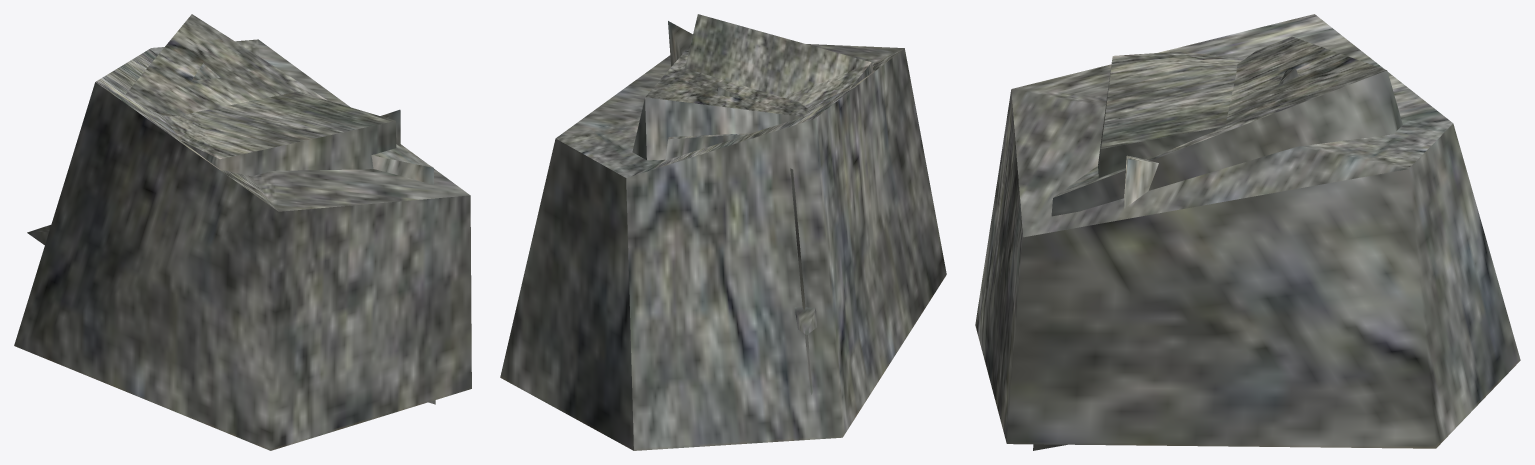
3 views of the same model, side by side, from view 1: azimuth 30°, elevation 25°; view 2: azimuth 150°, elevation 25°; view 3: azimuth 270°, elevation 25° (orthographic). The views are drawn at different scales.
Visible parts, largest first — view 1: 4, 2, 0, 7; view 2: 4, 2, 0, 7, 8; view 3: 4, 0, 2, 7.
Part boxes in pixels (x1,y1,x2,y2): 4: (14, 39, 471, 450); 2: (163, 91, 396, 176); 0: (125, 14, 435, 404); 7: (27, 109, 400, 245); 4: (500, 44, 946, 450); 2: (665, 14, 873, 160); 0: (632, 50, 808, 160); 7: (668, 21, 817, 334); 8: (790, 168, 812, 394); 4: (975, 14, 1520, 448); 0: (1033, 36, 1402, 450); 2: (1098, 51, 1244, 177); 7: (1124, 155, 1158, 208).
Bounding box in the file's own units: 41.17 × 38.87 × 57.63.
